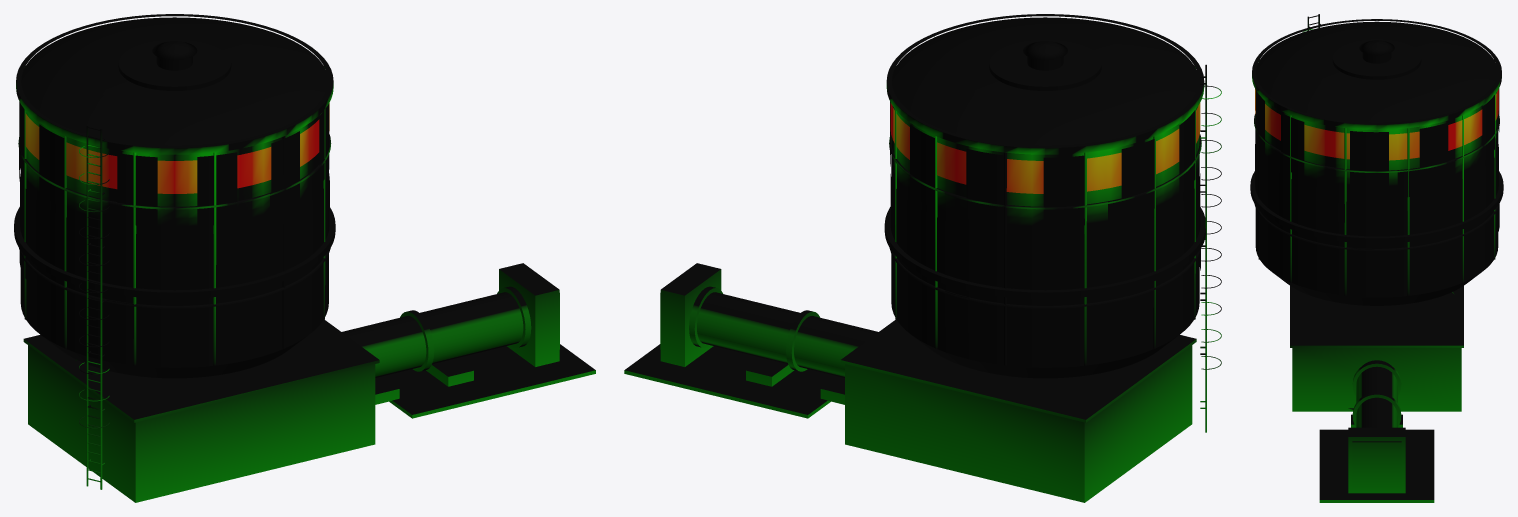
File: pipetank.glb
3 renders of one model, left to right at view 1: azimuth 30°, elevation 25°; view 2: azimuth 150°, elevation 25°; view 3: azimuth 270°, elevation 25°, orthographic. The views are drawn at different scales.
Visible parts, largest first — view 1: lod0; view 2: lod0; view 3: lod0.
Part boxes in pixels (x1,y1,x2,y2): lod0: (14,14,595,502); lod0: (624,14,1221,502); lod0: (1250,14,1503,502).
Size of what is drawn, in the model's own units: 18.25 by 13.23 by 9.7.
